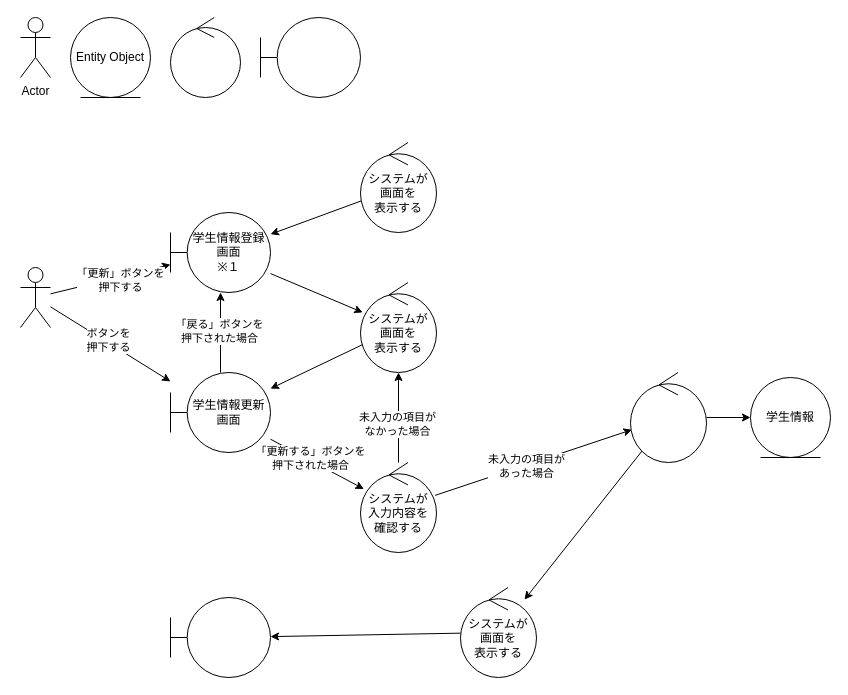
This 848x695 diagram has some shape labels left out. The box of each missing label's shape, as (x1, y1, x2, y2) in pixels:
Boundary Object: (260, 16, 360, 98)
Control Object: (170, 16, 240, 98)
完了画面: (170, 596, 270, 678)
教職員: (20, 266, 50, 328)
更新する: (630, 372, 706, 462)
